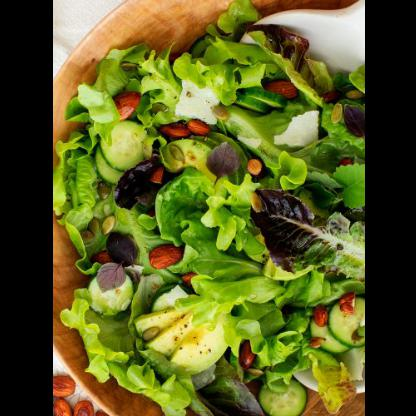salad: (50, 1, 363, 415)
